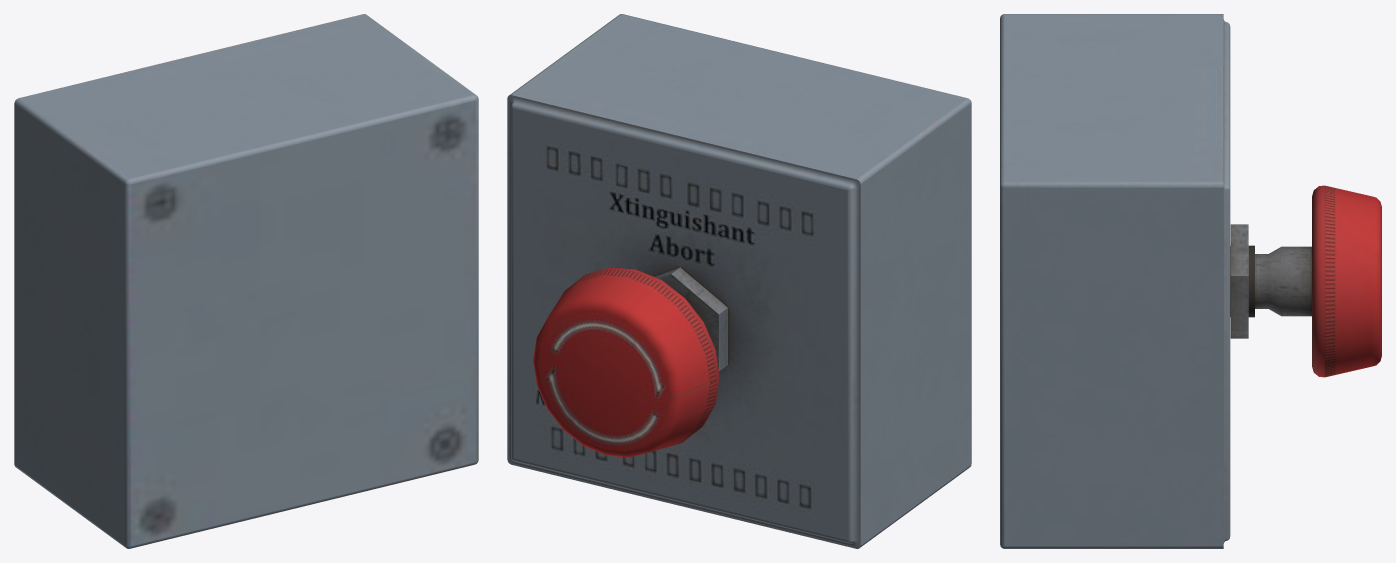
Rendered from botao.glb.
3 views of the same model, side by side, from view 1: azimuth 30°, elevation 25°; view 2: azimuth 150°, elevation 25°; view 3: azimuth 270°, elevation 25° (orthographic).
Parts seen in each view (by area): view 1: Cube__0; view 2: Cube__0, Cylinder_1__0; view 3: Cube__0, Cylinder_1__0.
Part boxes in pixels (x1,y1,x2,y2): Cube__0: (14, 14, 478, 548); Cube__0: (507, 14, 971, 548); Cylinder_1__0: (533, 267, 727, 457); Cube__0: (1000, 14, 1230, 548); Cylinder_1__0: (1230, 185, 1381, 377).
Bounding box in the file's own units: 0.14 × 0.14 × 0.1321.
Materials: 1 (1 with a texture image).
